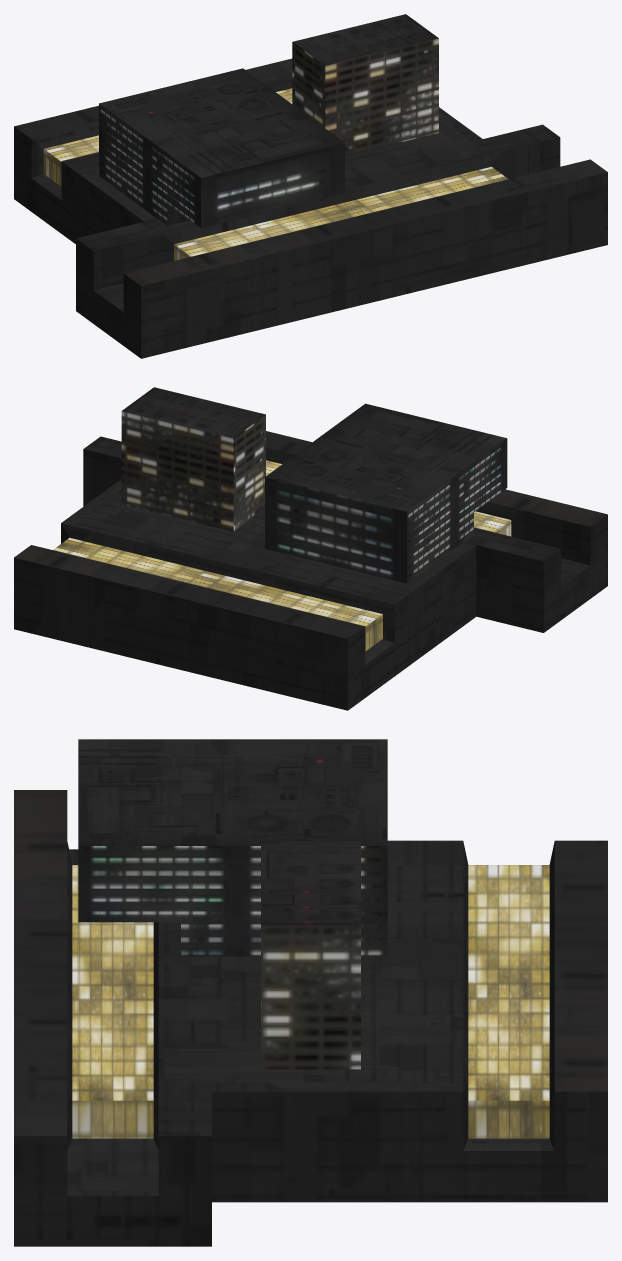
File: scifi_building_52.obj
3 renders of one model, top to bottom at view 1: azimuth 30°, elevation 25°; view 2: azimuth 150°, elevation 25°; view 3: azimuth 270°, elevation 25°, orthographic. The views are drawn at different scales.
Visible parts, largest first — view 1: building_52; view 2: building_52; view 3: building_52.
Boxes of the visible parts, bbox=[...] form: building_52: bbox=[14, 14, 607, 358]; building_52: bbox=[14, 387, 607, 710]; building_52: bbox=[14, 739, 607, 1246].
Size of the model in its own units: 147 by 50.77 by 107.
Materials: 1 (1 with a texture image).
